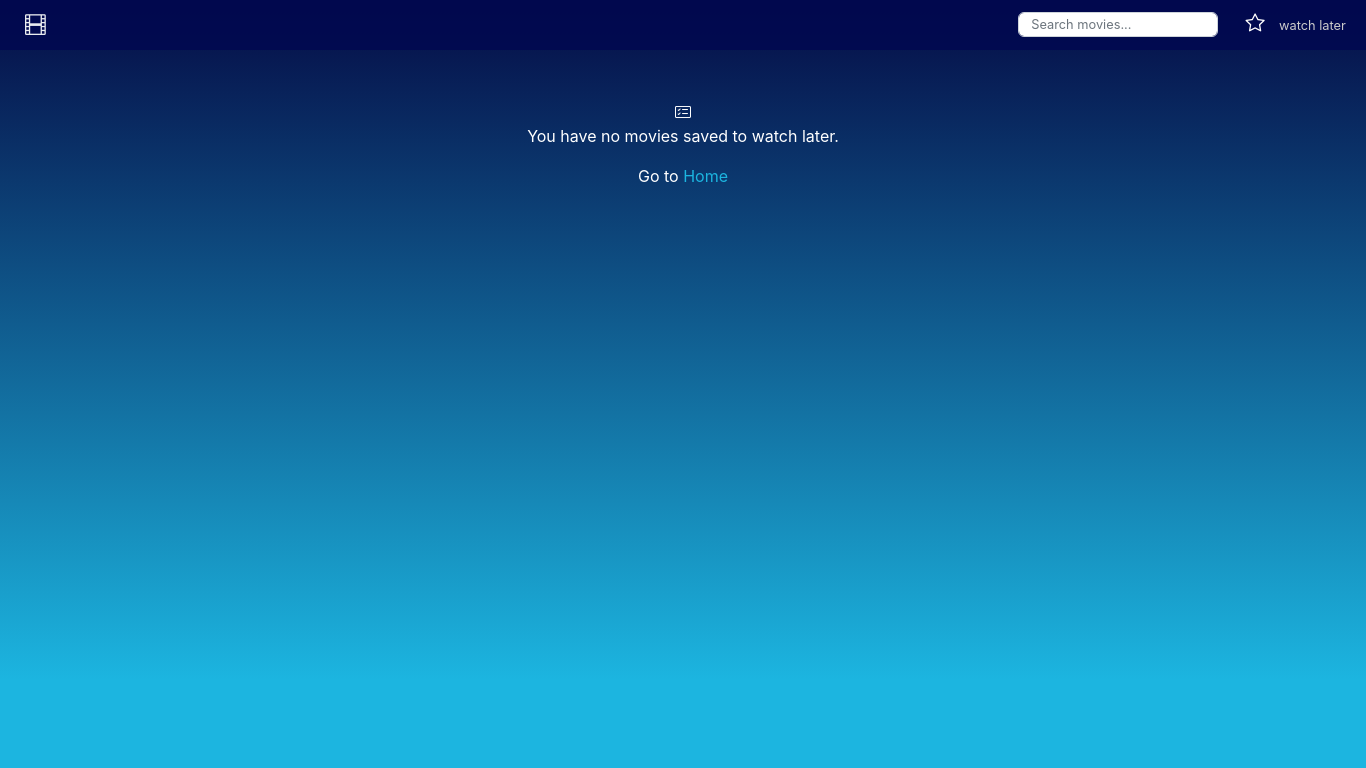
Test: renders starred component
Click the link with test id "nav-starred".
click(1255, 23)  # box [1245,11,1265,35]
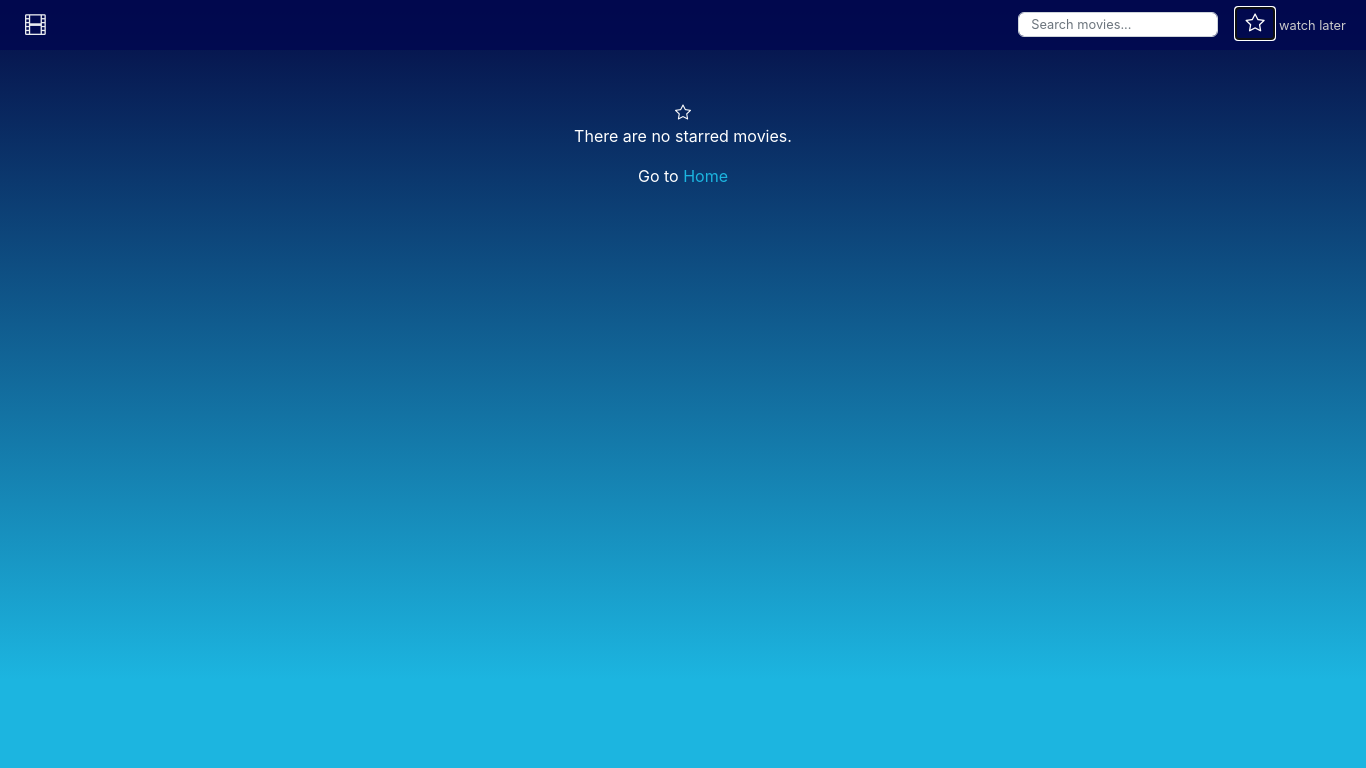
Expected: the text "There are no starred movies." is shown, [574,126,792,146]
Expected: the element with test id "starred" is shown, [574,102,792,186]
